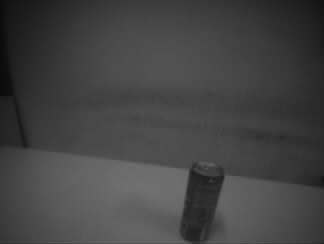Tin can: (179, 159, 226, 244)
